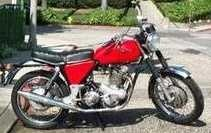motorcycle: (6, 25, 204, 124)
